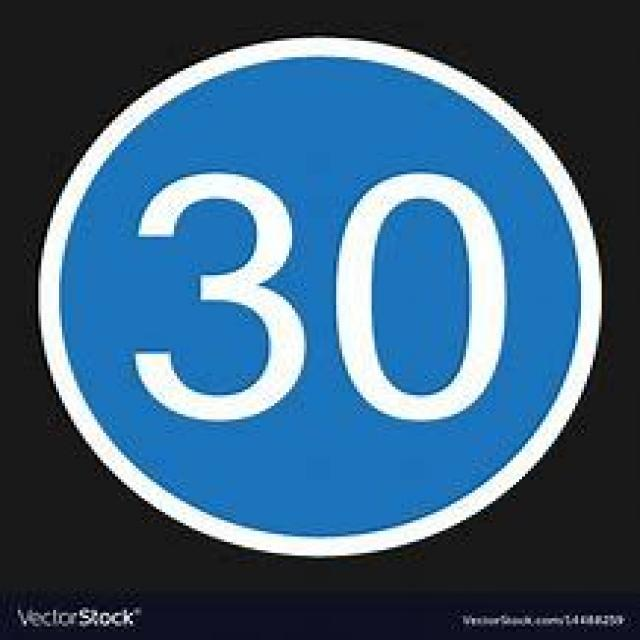COMPULSARY_MINIMUM_SPEED: (32, 30, 604, 558)
